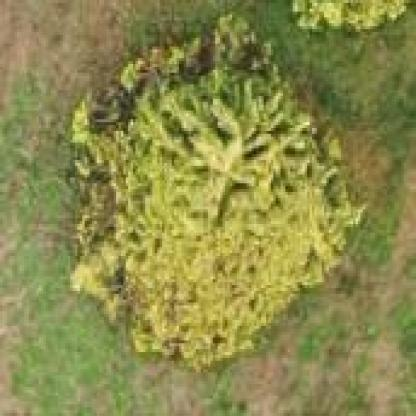Coniferous Tree: (66, 28, 369, 344)
